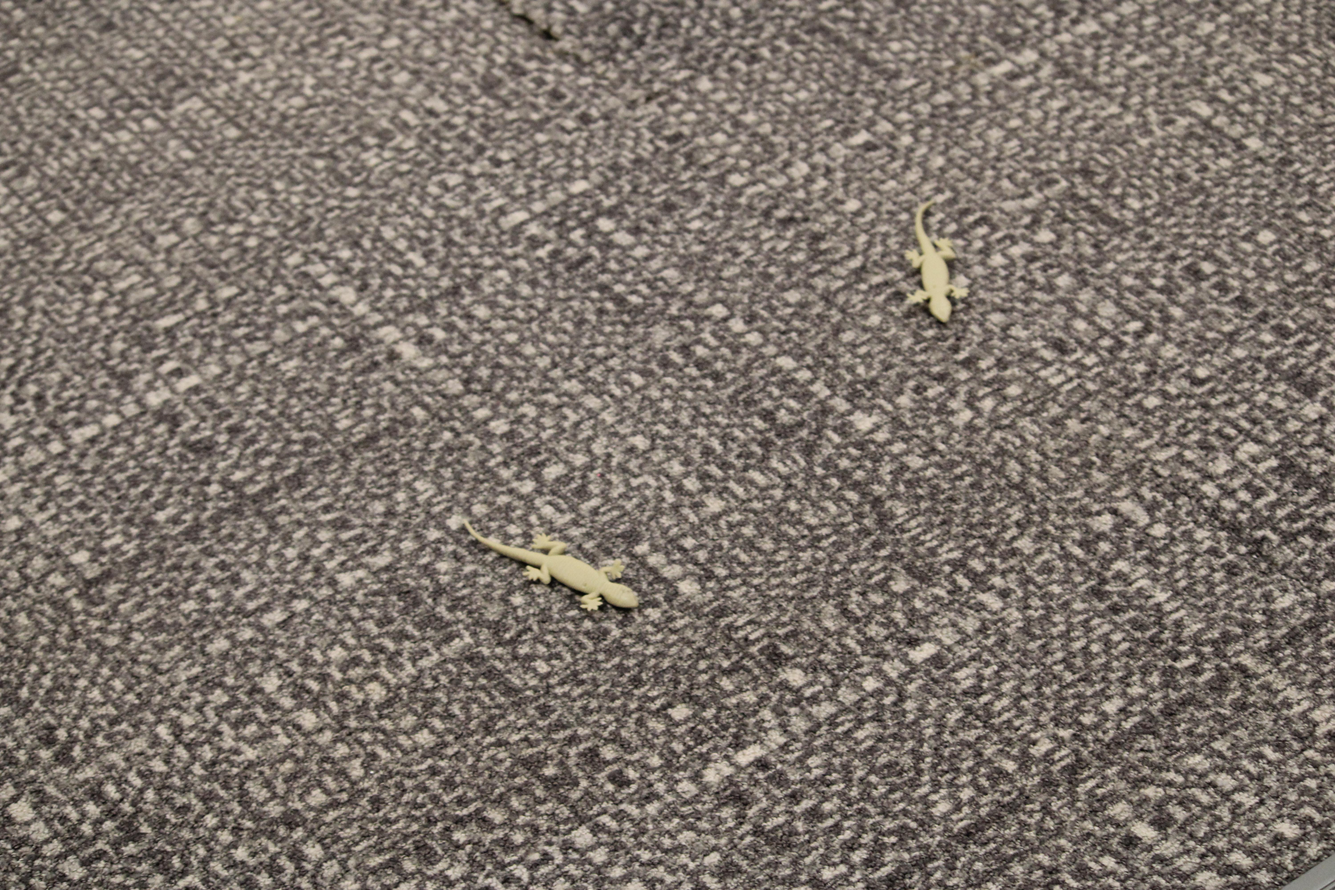lizard: (477, 519, 643, 619), (895, 203, 976, 322)
